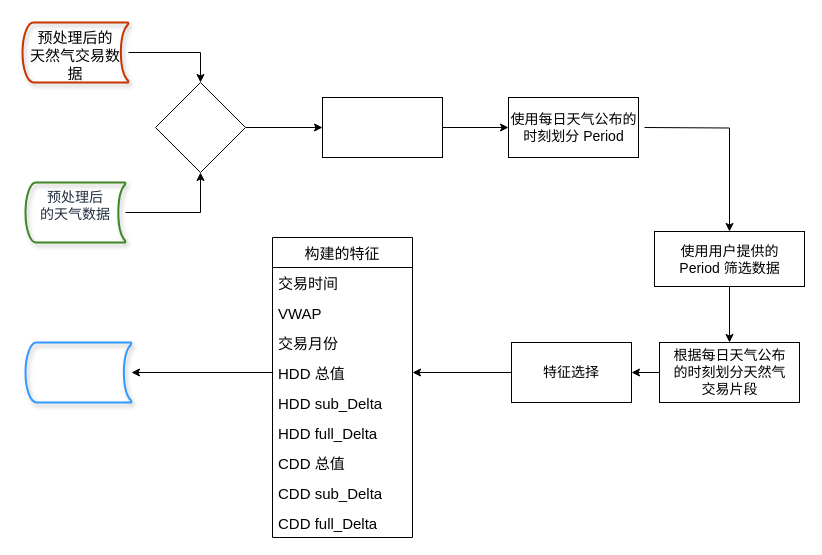
The diagram is 822 pixels wide and 555 high, and some of its shapes have lost their labels. Each missing label, with the centre of its shape:
使用用户提供 的时间段筛选数据: pixel 382 127
构建的特征数据集: pixel 79 373
根据时间 合并: pixel 200 127
